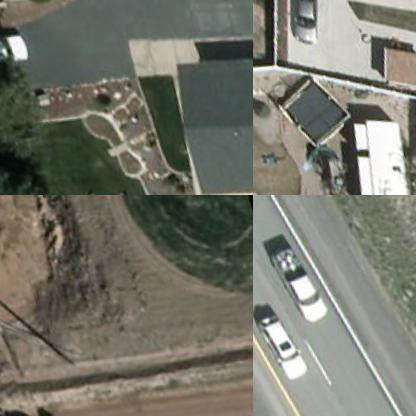camping car: (338, 107, 415, 194)
car: (253, 302, 307, 380), (272, 0, 331, 39), (0, 24, 33, 76)
pickup: (258, 230, 332, 325)
